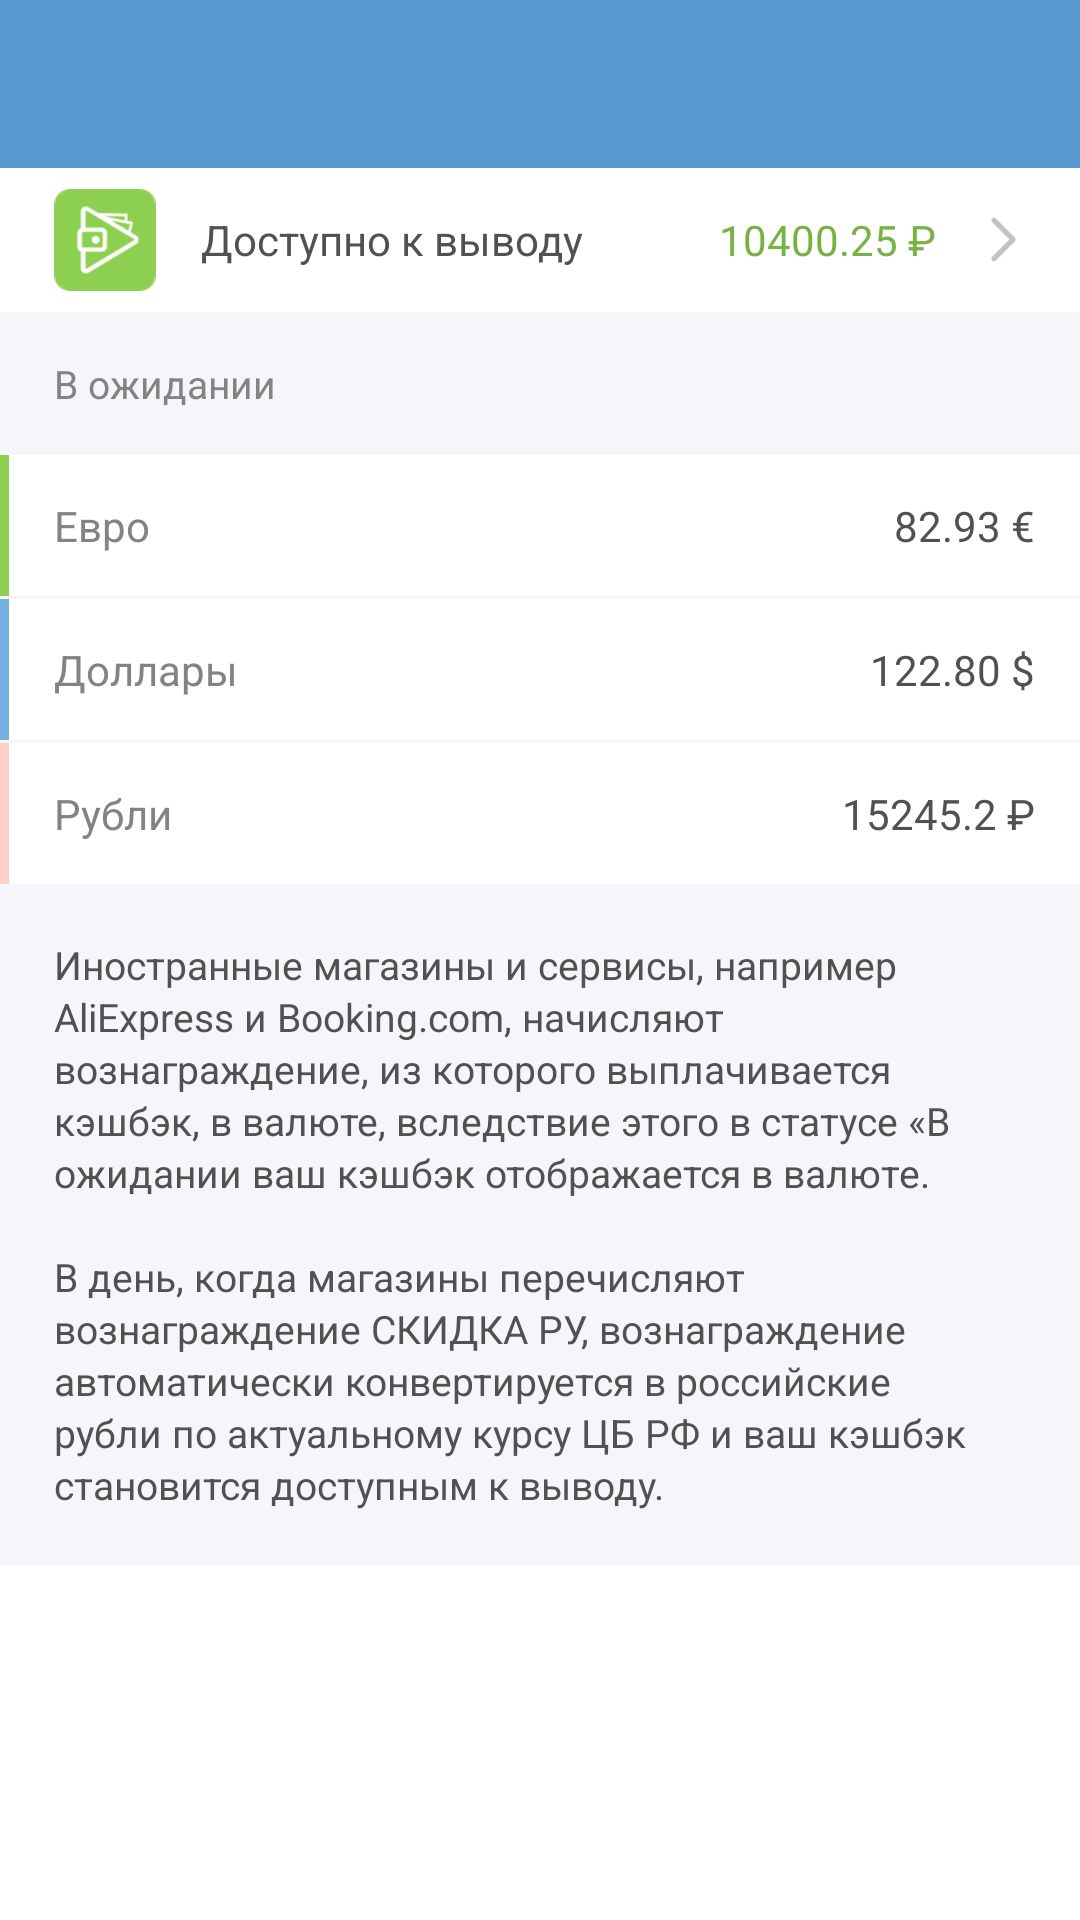

Icon click points for this 1080w x 1920h phone screenshot, format point (x, y):
iconbalance: point (105, 240)
iconrighttoarrow: point (1003, 239)
